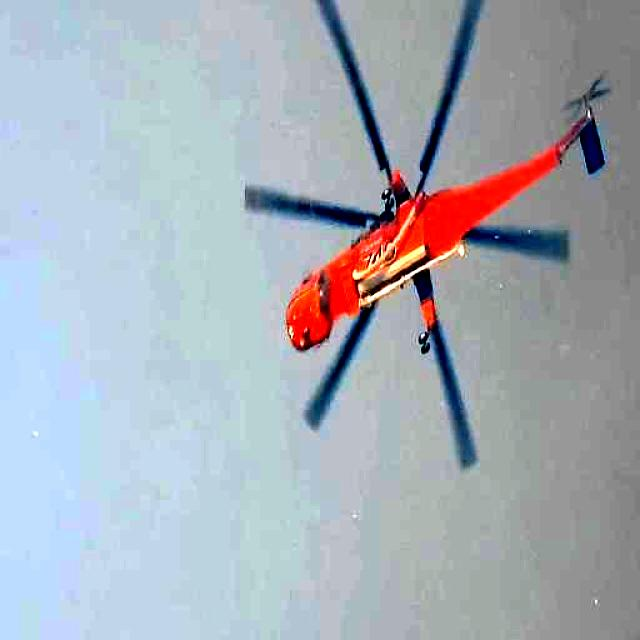drone: (242, 0, 610, 484)
